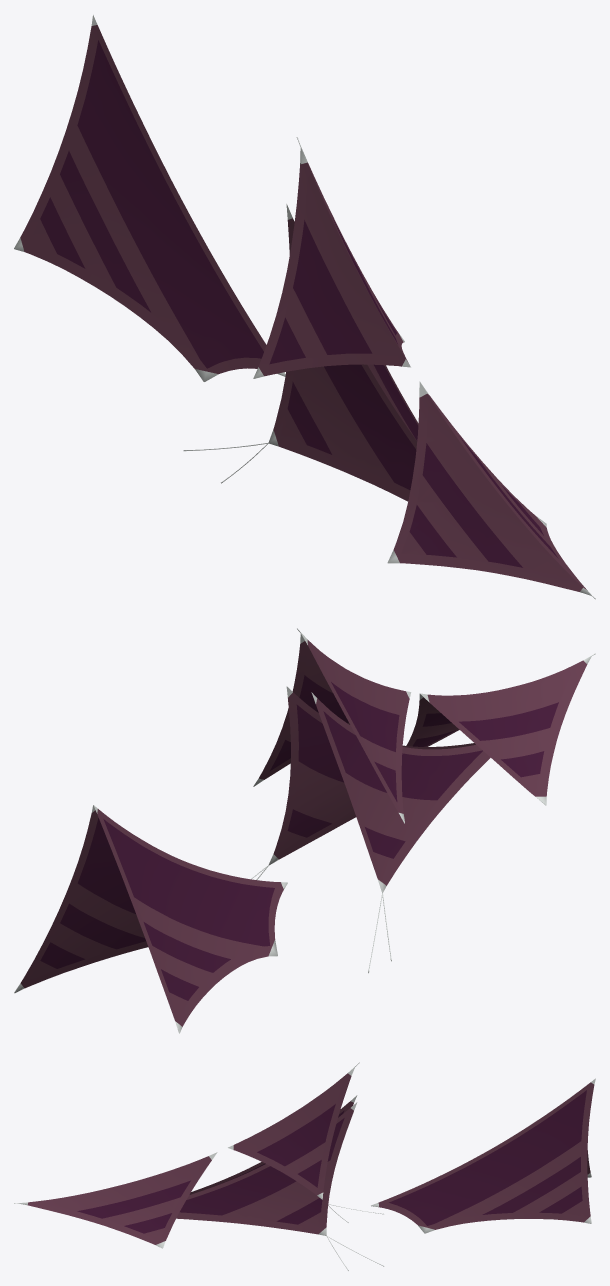
The picture shows the model from 3 angles, top to bottom: view 1: azimuth 30°, elevation 25°; view 2: azimuth 150°, elevation 25°; view 3: azimuth 270°, elevation 25°; orthographic projection. The views are drawn at different scales.
Visible parts, largest first — view 1: G:\FFXIV-MapTools\exports\m5f1\bg\ex4\02_mid_m5\fld\m5f1\bgp (×3); view 2: G:\FFXIV-MapTools\exports\m5f1\bg\ex4\02_mid_m5\fld\m5f1\bgp (×3); view 3: G:\FFXIV-MapTools\exports\m5f1\bg\ex4\02_mid_m5\fld\m5f1\bgp (×3).
Part boxes in pixels (x1=…): G:\FFXIV-MapTools\exports\m5f1\bg\ex4\02_mid_m5\fld\m5f1\bgp (×3): x1=14, y1=15, x2=595, y2=599; G:\FFXIV-MapTools\exports\m5f1\bg\ex4\02_mid_m5\fld\m5f1\bgp (×3): x1=14, y1=628, x2=595, y2=1033; G:\FFXIV-MapTools\exports\m5f1\bg\ex4\02_mid_m5\fld\m5f1\bgp (×3): x1=14, y1=1062, x2=595, y2=1270.
Bounding box in the file's own units: 19.08 × 31.44 × 89.69.
